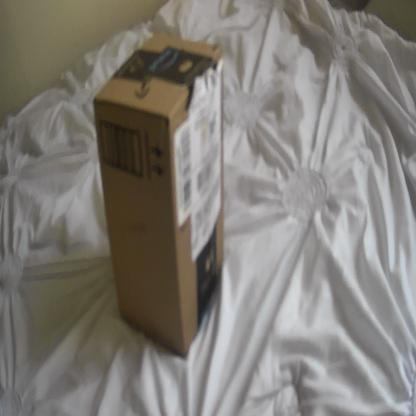package: (89, 25, 228, 367)
